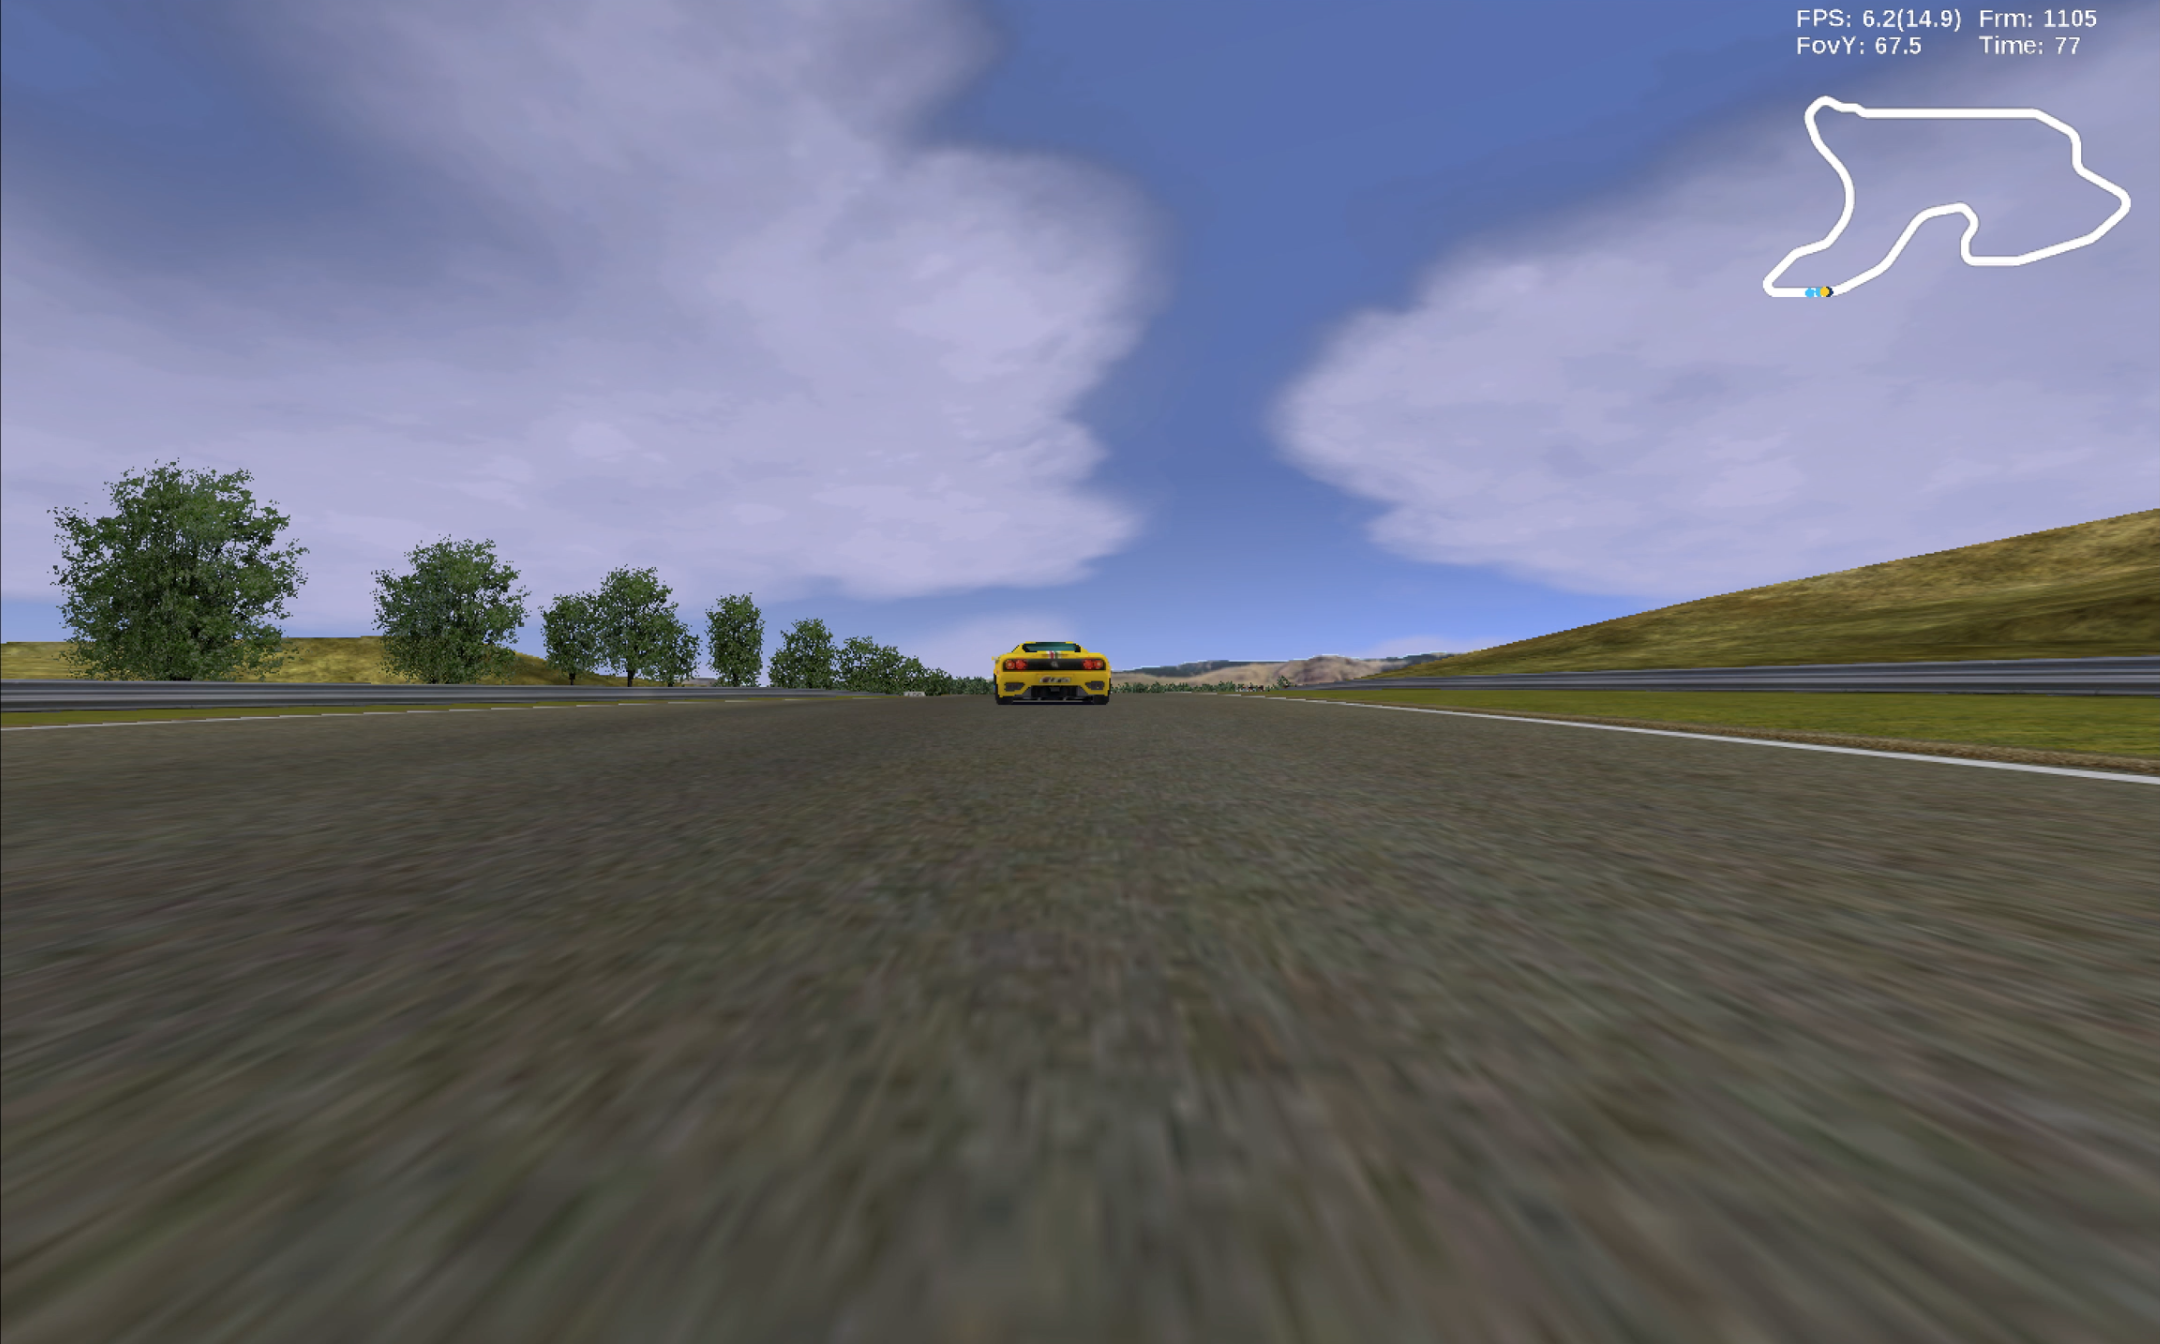Cavallo360: (994, 639, 1113, 703)
